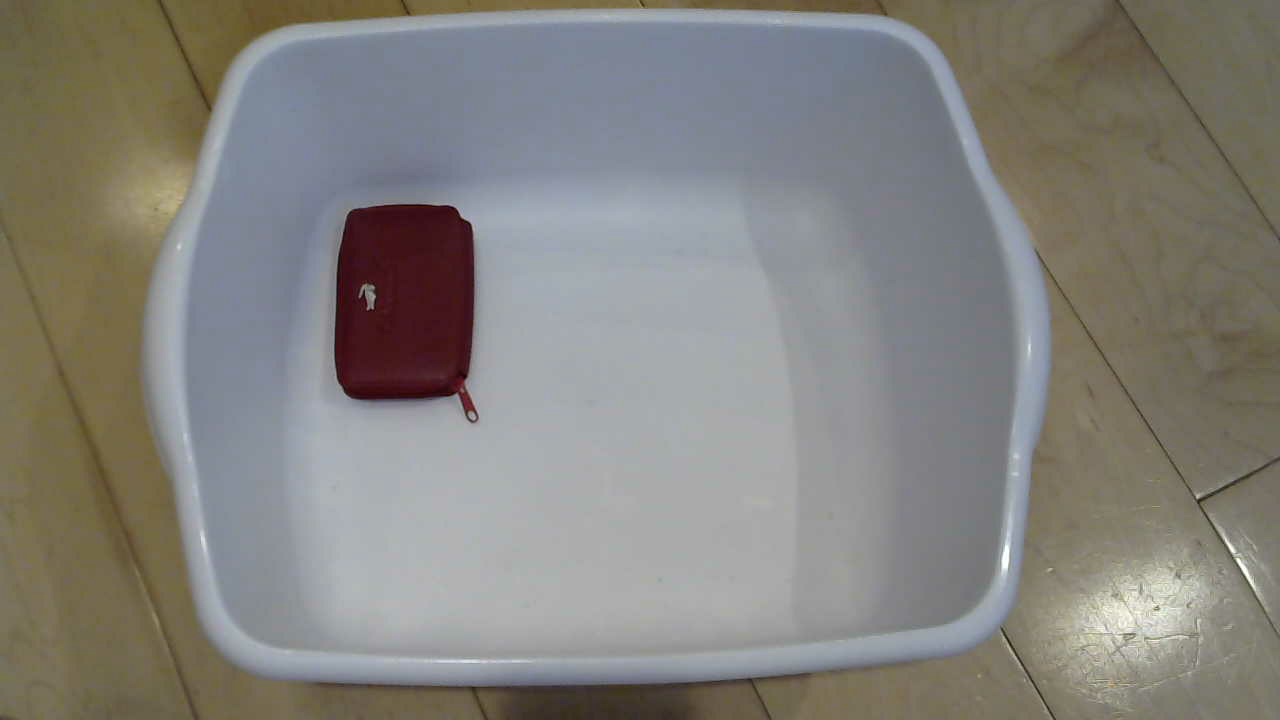wallet: (313, 191, 501, 422)
